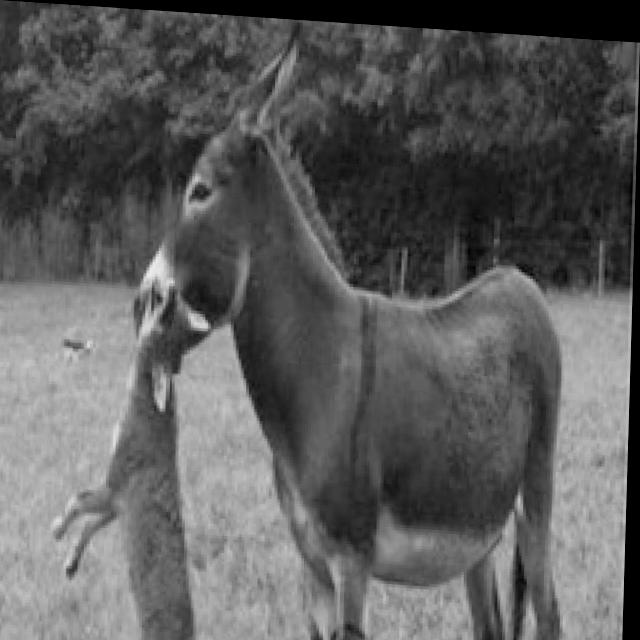Donkey: (124, 10, 583, 640), (44, 264, 221, 640)
